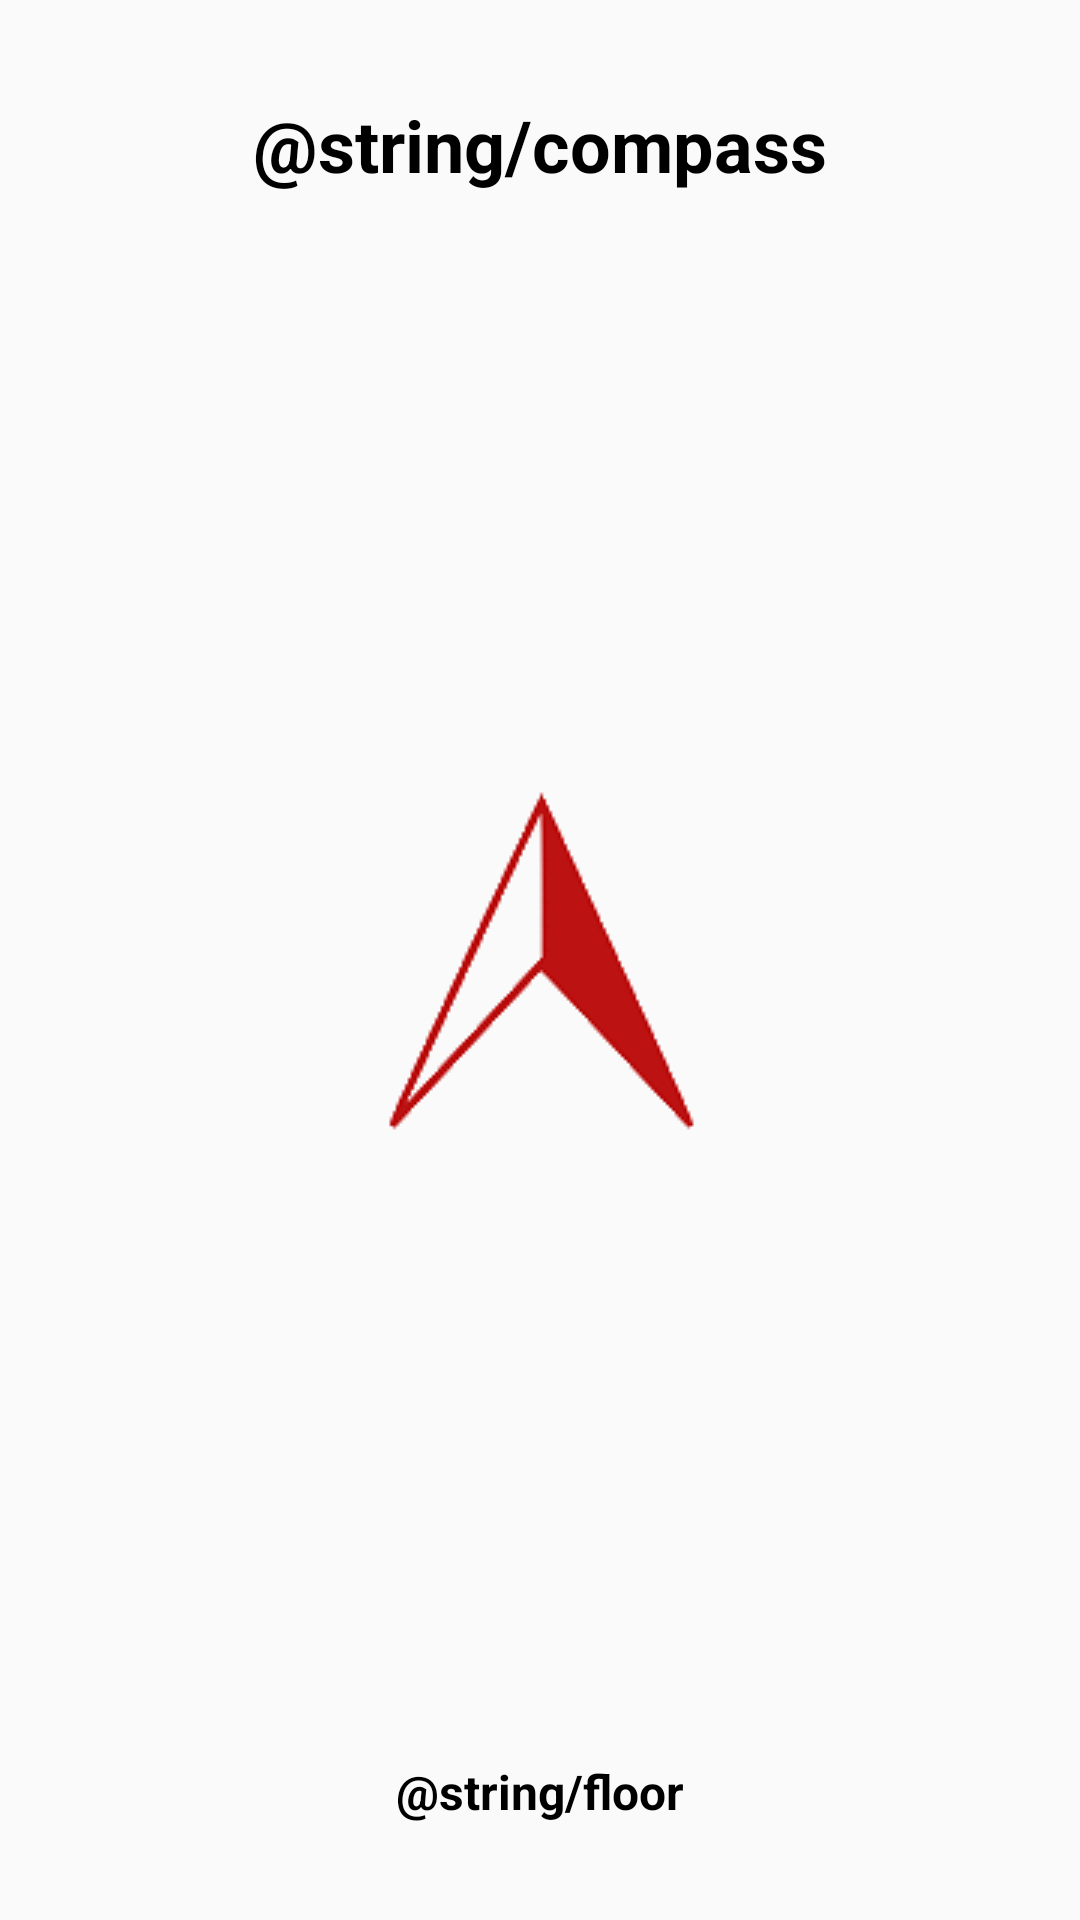

Icon bounding boxes for this 1080w x 1920h phone screenshot, format (x1, y1, x2, y2):
compasstrans: (389, 792, 694, 1130)
